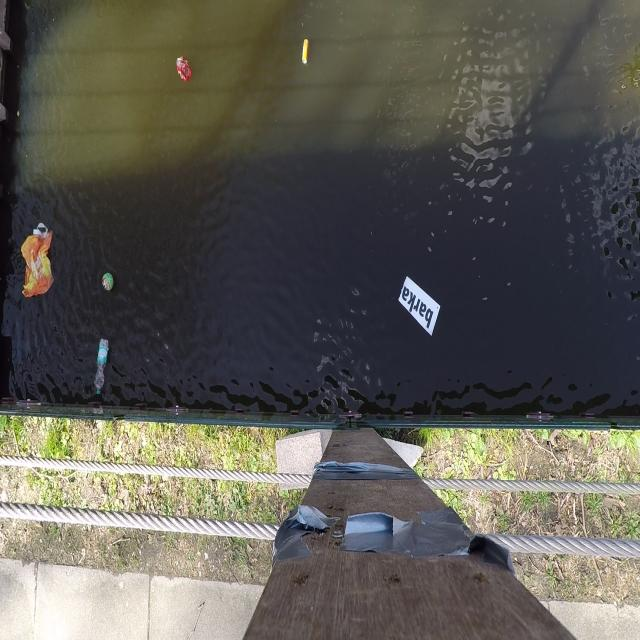Autre plastique: (100, 267, 117, 294)
Bouteille plastique: (94, 333, 110, 398)
Non plastique: (300, 38, 313, 70)
Sac plastique: (17, 218, 59, 302), (173, 54, 196, 86)
